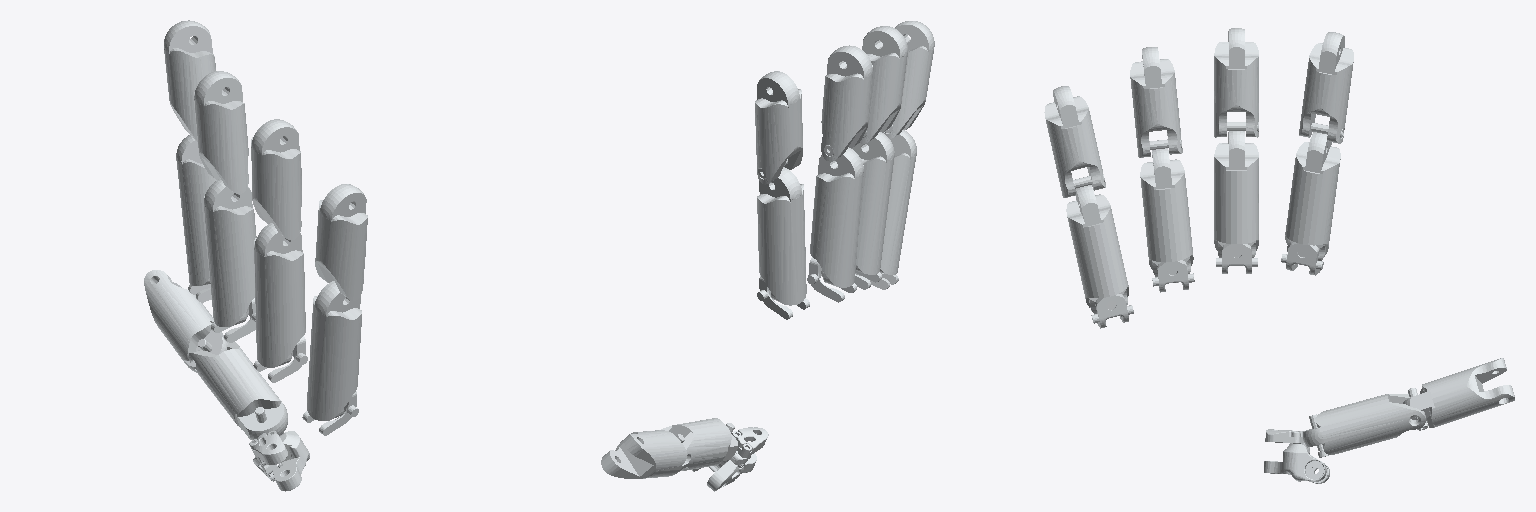
--- Render facts (derived) ---
3 views of the same robot in one strip: view 1: azimuth 30°, elevation 25°; view 2: azimuth 150°, elevation 25°; view 3: azimuth 270°, elevation 25° (orthographic).
Robot: wujihand-right-v1.0.1 — 26 links, 25 joints (20 revolute, 5 fixed); root link palm_link; default pose: all joints at 0.
Visible links, largest first — view 1: finger4_link2, finger3_link2, finger5_link2, finger3_link3, finger4_link3, finger1_link2, finger5_link3, finger1_link3, finger2_link3, finger2_link2, finger1_link1, finger4_link1 (+2 smaller); view 2: finger3_link2, finger2_link2, finger3_link3, finger2_link3, finger4_link2, finger4_link3, finger1_link3, finger5_link2, finger5_link3, finger1_link2, finger1_link1, finger3_link1 (+1 smaller); view 3: finger3_link2, finger5_link2, finger4_link2, finger2_link2, finger1_link2, finger2_link3, finger5_link3, finger4_link3, finger3_link3, finger1_link3, finger1_link1, finger2_link1 (+3 smaller).
Link boxes in pixels (x1,y1,x2,y2): finger4_link2: (254, 223, 305, 367); finger3_link2: (204, 178, 256, 326); finger5_link2: (307, 281, 361, 420); finger3_link3: (194, 71, 248, 193); finger4_link3: (251, 119, 301, 239); finger1_link2: (189, 342, 287, 439); finger5_link3: (315, 184, 367, 300); finger1_link3: (144, 270, 228, 372); finger2_link3: (164, 20, 215, 141); finger2_link2: (176, 134, 216, 285); finger1_link1: (249, 431, 309, 491); finger4_link1: (253, 336, 307, 382); finger3_link2: (810, 147, 863, 287); finger2_link2: (757, 167, 806, 305); finger3_link3: (821, 45, 872, 161); finger2_link3: (755, 71, 802, 184); finger4_link2: (851, 132, 894, 274); finger4_link3: (860, 26, 907, 143); finger1_link3: (601, 430, 686, 478); finger5_link2: (880, 130, 916, 274); finger5_link3: (883, 21, 934, 138); finger1_link2: (661, 418, 737, 470); finger1_link1: (692, 427, 768, 491); finger3_link1: (807, 257, 856, 302); finger3_link2: (1214, 131, 1258, 257); finger5_link2: (1066, 185, 1128, 313); finger4_link2: (1140, 148, 1193, 276); finger2_link2: (1285, 132, 1340, 260); finger1_link2: (1303, 394, 1425, 457); finger2_link3: (1299, 32, 1353, 143); finger5_link3: (1044, 86, 1105, 197); finger4_link3: (1130, 47, 1182, 157); finger3_link3: (1214, 28, 1258, 137); finger1_link3: (1403, 358, 1514, 430); finger1_link1: (1264, 429, 1329, 483); finger2_link1: (1281, 242, 1323, 275).
Bounding box of the posed robot: 0.0521 × 0.1576 × 0.1542 m (x, y, z).
Meshes: 26 distinct files referenced, 15 mesh visuals loaded (15 binary STL); not drawn: 11 (reference not matched to a file when rendering).

The robot description file, URDF, robot "wujihand-right-v1.0.1":
<?xml version="1.0" encoding="utf-8"?>
<robot
  name="wujihand-right-v1.0.1">
  <link
    name="palm_link">
    <inertial>
      <origin
        xyz="-0.0029795 0.00045572 0.036654"
        rpy="0 0 0" />
      <mass
        value="0.2179" />
      <inertia
        ixx="0.00021637"
        ixy="3.9165E-06"
        ixz="1.0657E-05"
        iyy="0.0001461"
        iyz="-1.0223E-05"
        izz="9.3156E-05" />
    </inertial>
    <visual>
      <origin
        xyz="0 0 0"
        rpy="0 0 0" />
      <geometry>
        <mesh
          filename="package://wujihand-urdf/meshes/right/palm_link.STL" />
      </geometry>
      <material
        name="">
        <color
          rgba="0.89804 0.91765 0.92941 1" />
      </material>
    </visual>
    <collision>
      <origin
        xyz="0 0 0"
        rpy="0 0 0" />
      <geometry>
        <mesh
          filename="package://wujihand-urdf/meshes/right/palm_link.STL" />
      </geometry>
    </collision>
  </link>
  <link
    name="finger1_link1">
    <inertial>
      <origin
        xyz="-0.0024628 -0.0014428 0.0077802"
        rpy="0 0 0" />
      <mass
        value="0.0075" />
      <inertia
        ixx="1.4319E-07"
        ixy="-7.6048E-09"
        ixz="-1.812E-10"
        iyy="1.307E-07"
        iyz="1.7145E-08"
        izz="1.0259E-07" />
    </inertial>
    <visual>
      <origin
        xyz="0 0 0"
        rpy="0 0 0" />
      <geometry>
        <mesh
          filename="package://wujihand-urdf/meshes/right/finger1_link1.STL" />
      </geometry>
      <material
        name="">
        <color
          rgba="0.89804 0.91765 0.92941 1" />
      </material>
    </visual>
    <collision>
      <origin
        xyz="0 0 0"
        rpy="0 0 0" />
      <geometry>
        <mesh
          filename="package://wujihand-urdf/meshes/right/finger1_link1.STL" />
      </geometry>
    </collision>
  </link>
  <joint
    name="finger1_joint1"
    type="revolute">
    <origin
      xyz="0.0085244 0.020575 0.028712"
      rpy="-1.328 -0.37161 -0.7307" />
    <parent
      link="palm_link" />
    <child
      link="finger1_link1" />
    <axis
      xyz="0 -1 0" />
    <limit
      lower="-1.6508"
      upper="0.0448"
      effort="0.6"
      velocity="8.587" />
  </joint>
  <link
    name="finger1_link2">
    <inertial>
      <origin
        xyz="0.0011196 -1.2405E-05 0.015663"
        rpy="0 0 0" />
      <mass
        value="0.0248" />
      <inertia
        ixx="1.6585E-06"
        ixy="1.071E-08"
        ixz="1.0344E-08"
        iyy="1.694E-06"
        iyz="1.058E-08"
        izz="4.1017E-07" />
    </inertial>
    <visual>
      <origin
        xyz="0 0 0"
        rpy="0 0 0" />
      <geometry>
        <mesh
          filename="package://wujihand-urdf/meshes/right/finger1_link2.STL" />
      </geometry>
      <material
        name="">
        <color
          rgba="0.89804 0.91765 0.92941 1" />
      </material>
    </visual>
    <collision>
      <origin
        xyz="0 0 0"
        rpy="0 0 0" />
      <geometry>
        <mesh
          filename="package://wujihand-urdf/meshes/right/finger1_link2.STL" />
      </geometry>
    </collision>
  </link>
  <joint
    name="finger1_joint2"
    type="revolute">
    <origin
      xyz="-0.0047549 -0.0060191 0.014132"
      rpy="-0.57428 -0.23677 1.8034" />
    <parent
      link="finger1_link1" />
    <child
      link="finger1_link2" />
    <axis
      xyz="0 1 0" />
    <limit
      lower="-0.9339"
      upper="0.1659"
      effort="0.6"
      velocity="11.1" />
  </joint>
  <link
    name="finger1_link3">
    <inertial>
      <origin
        xyz="-0.0011235 -1.579E-05 0.013056"
        rpy="0 0 0" />
      <mass
        value="0.0165" />
      <inertia
        ixx="1.0981E-06"
        ixy="1.7603E-11"
        ixz="-1.669E-08"
        iyy="1.0736E-06"
        iyz="-9.86E-10"
        izz="3.3917E-07" />
    </inertial>
    <visual>
      <origin
        xyz="0 0 0"
        rpy="0 0 0" />
      <geometry>
        <mesh
          filename="package://wujihand-urdf/meshes/right/finger1_link3.STL" />
      </geometry>
      <material
        name="">
        <color
          rgba="0.89804 0.91765 0.92941 1" />
      </material>
    </visual>
    <collision>
      <origin
        xyz="0 0 0"
        rpy="0 0 0" />
      <geometry>
        <mesh
          filename="package://wujihand-urdf/meshes/right/finger1_link3.STL" />
      </geometry>
    </collision>
  </link>
  <joint
    name="finger1_joint3"
    type="revolute">
    <origin
      xyz="0.00018873 -0.0009916 0.034664"
      rpy="0.049049 0.017311 -1.9085" />
    <parent
      link="finger1_link2" />
    <child
      link="finger1_link3" />
    <axis
      xyz="0 1 0" />
    <limit
      lower="-0.4932"
      upper="1.6272"
      effort="0.3"
      velocity="12.863" />
  </joint>
  <link
    name="finger1_link4">
    <inertial>
      <origin
        xyz="-0.0011922 0.00023589 0.0082118"
        rpy="0 0 0" />
      <mass
        value="0.0165" />
      <inertia
        ixx="3.6732E-07"
        ixy="1.4236E-10"
        ixz="-5.3805E-09"
        iyy="3.7712E-07"
        iyz="-9.5967E-10"
        izz="2.1481E-07" />
    </inertial>
    <visual>
      <origin
        xyz="0 0 0"
        rpy="0 0 0" />
      <geometry>
        <mesh
          filename="package://wujihand-urdf/meshes/right/finger1_link4.STL" />
      </geometry>
      <material
        name="">
        <color
          rgba="0.89804 0.91765 0.92941 1" />
      </material>
    </visual>
    <collision>
      <origin
        xyz="0 0 0"
        rpy="0 0 0" />
      <geometry>
        <mesh
          filename="package://wujihand-urdf/meshes/right/finger1_link4.STL" />
      </geometry>
    </collision>
  </link>
  <joint
    name="finger1_joint4"
    type="revolute">
    <origin
      xyz="0 -0.00025 0.0295"
      rpy="0 0 0" />
    <parent
      link="finger1_link3" />
    <child
      link="finger1_link4" />
    <axis
      xyz="0 1 0" />
    <limit
      lower="-0.4932"
      upper="1.6272"
      effort="0.3"
      velocity="13.579" />
  </joint>
  <link
    name="finger1_tip_link">
    <inertial>
      <origin
        xyz="-0.00018237 -3.9481E-06 -0.0041777"
        rpy="0 0 0" />
      <mass
        value="0.004" />
      <inertia
        ixx="1.8943E-07"
        ixy="4.6143E-11"
        ixz="6.9369E-09"
        iyy="1.8859E-07"
        iyz="4.42E-10"
        izz="1.6733E-07" />
    </inertial>
    <visual>
      <origin
        xyz="0 0 0"
        rpy="0 0 0" />
      <geometry>
        <mesh
          filename="package://wujihand-urdf/meshes/right/finger1_tip_link.STL" />
      </geometry>
      <material
        name="">
        <color
          rgba="0.89804 0.91765 0.92941 1" />
      </material>
    </visual>
    <collision>
      <origin
        xyz="0 0 0"
        rpy="0 0 0" />
      <geometry>
        <mesh
          filename="package://wujihand-urdf/meshes/right/finger1_tip_link.STL" />
      </geometry>
    </collision>
  </link>
  <joint
    name="finger1_tip_fixed"
    type="fixed">
    <origin
      xyz="-0.0011048 0.00023218 0.0283"
      rpy="0 0 0" />
    <parent
      link="finger1_link4" />
    <child
      link="finger1_tip_link" />
    <axis
      xyz="0 0 0" />
  </joint>
  <link
    name="finger2_link1">
    <inertial>
      <origin
        xyz="-0.0013291 -3.2911E-08 0.00031987"
        rpy="0 0 0" />
      <mass
        value="0.0032" />
      <inertia
        ixx="2.6373E-08"
        ixy="-3.9697E-14"
        ixz="-8.0422E-09"
        iyy="2.2948E-08"
        iyz="-2.4125E-13"
        izz="2.4484E-08" />
    </inertial>
    <visual>
      <origin
        xyz="0 0 0"
        rpy="0 0 0" />
      <geometry>
        <mesh
          filename="package://wujihand-urdf/meshes/right/finger2_link1.STL" />
      </geometry>
      <material
        name="">
        <color
          rgba="0.89804 0.91765 0.92941 1" />
      </material>
    </visual>
    <collision>
      <origin
        xyz="0 0 0"
        rpy="0 0 0" />
      <geometry>
        <mesh
          filename="package://wujihand-urdf/meshes/right/finger2_link1.STL" />
      </geometry>
    </collision>
  </link>
  <joint
    name="finger2_joint1"
    type="revolute">
    <origin
      xyz="-0.0058701 0.029434 0.091917"
      rpy="-0.11071 -0.071139 -0.21822" />
    <parent
      link="palm_link" />
    <child
      link="finger2_link1" />
    <axis
      xyz="0 1 0" />
    <limit
      lower="-0.32695"
      upper="1.636"
      effort="1"
      velocity="8.203" />
  </joint>
  <link
    name="finger2_link2">
    <inertial>
      <origin
        xyz="-0.0061577 -4.1189E-07 0.020911"
        rpy="0 0 0" />
      <mass
        value="0.033" />
      <inertia
        ixx="4.0385E-06"
        ixy="-1.83E-11"
        ixz="-1.0142E-07"
        iyy="4.0532E-06"
        iyz="1.4532E-10"
        izz="5.6602E-07" />
    </inertial>
    <visual>
      <origin
        xyz="0 0 0"
        rpy="0 0 0" />
      <geometry>
        <mesh
          filename="package://wujihand-urdf/meshes/right/finger2_link2.STL" />
      </geometry>
      <material
        name="">
        <color
          rgba="0.89804 0.91765 0.92941 1" />
      </material>
    </visual>
    <collision>
      <origin
        xyz="0 0 0"
        rpy="0 0 0" />
      <geometry>
        <mesh
          filename="package://wujihand-urdf/meshes/right/finger2_link2.STL" />
      </geometry>
    </collision>
  </link>
  <joint
    name="finger2_joint2"
    type="revolute">
    <origin
      xyz="0.0022 0 0.004"
      rpy="0 0 0" />
    <parent
      link="finger2_link1" />
    <child
      link="finger2_link2" />
    <axis
      xyz="-1 0 0" />
    <limit
      lower="-0.495"
      upper="0.495"
      effort="0.2"
      velocity="8.1158" />
  </joint>
  <link
    name="finger2_link3">
    <inertial>
      <origin
        xyz="-0.0011668 4.1873E-06 0.026893"
        rpy="0 0 0" />
      <mass
        value="0.0165" />
      <inertia
        ixx="1.3423E-06"
        ixy="-6.5257E-13"
        ixz="3.4631E-08"
        iyy="1.3154E-06"
        iyz="8.8937E-10"
        izz="5.0263E-07" />
    </inertial>
    <visual>
      <origin
        xyz="0 0 0"
        rpy="0 0 0" />
      <geometry>
        <mesh
          filename="package://wujihand-urdf/meshes/right/finger2_link3.STL" />
      </geometry>
      <material
        name="">
        <color
          rgba="0.89804 0.91765 0.92941 1" />
      </material>
    </visual>
    <collision>
      <origin
        xyz="0 0 0"
        rpy="0 0 0" />
      <geometry>
        <mesh
          filename="package://wujihand-urdf/meshes/right/finger2_link3.STL" />
      </geometry>
    </collision>
  </link>
  <joint
    name="finger2_joint3"
    type="revolute">
    <origin
      xyz="-0.0047503 0 0.043618"
      rpy="0 0 -0.00026861" />
    <parent
      link="finger2_link2" />
    <child
      link="finger2_link3" />
    <axis
      xyz="0 -1 0" />
    <limit
      lower="-1.6272"
      upper="0.4932"
      effort="0.3"
      velocity="12.863" />
  </joint>
  <link
    name="finger2_link4">
    <inertial>
      <origin
        xyz="-0.00089438 1.7042E-05 0.0053518"
        rpy="0 0 0" />
      <mass
        value="0.014" />
      <inertia
        ixx="1.3443E-07"
        ixy="2.4169E-11"
        ixz="4.3016E-09"
        iyy="9.4805E-08"
        iyz="2.2966E-10"
        izz="1.0952E-07" />
    </inertial>
    <visual>
      <origin
        xyz="0 0 0"
        rpy="0 0 0" />
      <geometry>
        <mesh
          filename="package://wujihand-urdf/meshes/right/finger2_link4.STL" />
      </geometry>
      <material
        name="">
        <color
          rgba="0.89804 0.91765 0.92941 1" />
      </material>
    </visual>
    <collision>
      <origin
        xyz="0 0 0"
        rpy="0 0 0" />
      <geometry>
        <mesh
          filename="package://wujihand-urdf/meshes/right/finger2_link4.STL" />
      </geometry>
    </collision>
  </link>
  <joint
    name="finger2_joint4"
    type="revolute">
    <origin
      xyz="0 0 0.0295"
      rpy="0 0 0" />
    <parent
      link="finger2_link3" />
    <child
      link="finger2_link4" />
    <axis
      xyz="0 -1 0" />
    <limit
      lower="-1.6272"
      upper="0.4932"
      effort="0.3"
      velocity="13.579" />
  </joint>
  <link
    name="finger2_tip_link">
    <inertial>
      <origin
        xyz="-0.00020111 3.8638E-06 -0.009311"
        rpy="0 0 0" />
      <mass
        value="0.004" />
      <inertia
        ixx="2.2273E-07"
        ixy="1.2773E-11"
        ixz="8.4254E-09"
        iyy="2.2066E-07"
        iyz="-5.5787E-11"
        izz="1.6387E-07" />
    </inertial>
    <visual>
      <origin
        xyz="0 0 0"
        rpy="0 0 0" />
      <geometry>
        <mesh
          filename="package://wujihand-urdf/meshes/right/finger2_tip_link.STL" />
      </geometry>
      <material
        name="">
        <color
          rgba="0.89804 0.91765 0.92941 1" />
      </material>
    </visual>
    <collision>
      <origin
        xyz="0 0 0"
        rpy="0 0 0" />
      <geometry>
        <mesh
          filename="package://wujihand-urdf/meshes/right/finger2_tip_link.STL" />
      </geometry>
    </collision>
  </link>
  <joint
    name="finger2_tip_fixed"
    type="fixed">
    <origin
      xyz="-0.00105 0 0.0274"
      rpy="0 0 0" />
    <parent
      link="finger2_link4" />
    <child
      link="finger2_tip_link" />
    <axis
      xyz="0 0 0" />
  </joint>
  <link
    name="finger3_link1">
    <inertial>
      <origin
        xyz="-0.0013291 3.4987E-09 0.00031994"
        rpy="0 0 0" />
      <mass
        value="0.0032" />
      <inertia
        ixx="2.6373E-08"
        ixy="-1.1786E-13"
        ixz="-8.0422E-09"
        iyy="2.2948E-08"
        iyz="-3.1483E-13"
        izz="2.4484E-08" />
    </inertial>
    <visual>
      <origin
        xyz="0 0 0"
        rpy="0 0 0" />
      <geometry>
        <mesh
          filename="package://wujihand-urdf/meshes/right/finger3_link1.STL" />
      </geometry>
      <material
        name="">
        <color
          rgba="0.89804 0.91765 0.92941 1" />
      </material>
    </visual>
    <collision>
      <origin
        xyz="0 0 0"
        rpy="0 0 0" />
      <geometry>
        <mesh
          filename="package://wujihand-urdf/meshes/right/finger3_link1.STL" />
      </geometry>
    </collision>
  </link>
  <joint
    name="finger3_joint1"
    type="revolute">
    <origin
      xyz="-0.01046 0.0074615 0.089544"
      rpy="-5.0886E-05 -0.087266 0.00058387" />
    <parent
      link="palm_link" />
    <child
      link="finger3_link1" />
    <axis
      xyz="0 1 0" />
    <limit
      lower="-0.32695"
      upper="1.636"
      effort="1"
      velocity="8.203" />
  </joint>
  <link
    name="finger3_link2">
    <inertial>
      <origin
        xyz="-0.0061576 -4.1651E-07 0.020911"
        rpy="0 0 0" />
      <mass
        value="0.033" />
      <inertia
        ixx="4.0385E-06"
        ixy="-1.8081E-11"
        ixz="-1.0144E-07"
        iyy="4.0532E-06"
        iyz="1.5178E-10"
        izz="5.6602E-07" />
    </inertial>
    <visual>
      <origin
        xyz="0 0 0"
        rpy="0 0 0" />
      <geometry>
        <mesh
          filename="package://wujihand-urdf/meshes/right/finger3_link2.STL" />
      </geometry>
      <material
        name="">
        <color
          rgba="0.89804 0.91765 0.92941 1" />
      </material>
    </visual>
    <collision>
      <origin
        xyz="0 0 0"
        rpy="0 0 0" />
      <geometry>
        <mesh
          filename="package://wujihand-urdf/meshes/right/finger3_link2.STL" />
      </geometry>
    </collision>
  </link>
  <joint
    name="finger3_joint2"
    type="revolute">
    <origin
      xyz="0.0022 0 0.004"
      rpy="0 0 0" />
    <parent
      link="finger3_link1" />
    <child
      link="finger3_link2" />
    <axis
      xyz="-1 0 0" />
    <limit
      lower="-0.495"
      upper="0.495"
      effort="0.2"
      velocity="8.1158" />
  </joint>
  <link
    name="finger3_link3">
    <inertial>
      <origin
        xyz="-0.0011214 4.331E-06 0.015763"
        rpy="0 0 0" />
      <mass
        value="0.0165" />
      <inertia
        ixx="1.1195E-06"
        ixy="-1.2715E-11"
        ixz="2.6203E-08"
        iyy="1.0947E-06"
        iyz="9.4467E-10"
        izz="3.3876E-07" />
    </inertial>
    <visual>
      <origin
        xyz="0 0 0"
        rpy="0 0 0" />
      <geometry>
        <mesh
          filename="package://wujihand-urdf/meshes/right/finger3_link3.STL" />
      </geometry>
      <material
        name="">
        <color
          rgba="0.89804 0.91765 0.92941 1" />
      </material>
    </visual>
    <collision>
      <origin
        xyz="0 0 0"
        rpy="0 0 0" />
      <geometry>
        <mesh
          filename="package://wujihand-urdf/meshes/right/finger3_link3.STL" />
      </geometry>
    </collision>
  </link>
  <joint
    name="finger3_joint3"
    type="revolute">
    <origin
      xyz="-0.00475 0 0.043618"
      rpy="0 0 -0.00026861" />
    <parent
      link="finger3_link2" />
    <child
      link="finger3_link3" />
    <axis
      xyz="0 -1 0" />
    <limit
      lower="-1.6272"
      upper="0.4932"
      effort="0.3"
      velocity="12.863" />
  </joint>
  <link
    name="finger3_link4">
    <inertial>
      <origin
        xyz="-0.00089436 1.7049E-05 0.0053518"
        rpy="0 0 0" />
      <mass
        value="0.014" />
      <inertia
        ixx="1.3443E-07"
        ixy="2.3726E-11"
        ixz="4.3018E-09"
        iyy="9.4805E-08"
        iyz="2.2969E-10"
        izz="1.0952E-07" />
    </inertial>
    <visual>
      <origin
        xyz="0 0 0"
        rpy="0 0 0" />
      <geometry>
        <mesh
          filename="package://wujihand-urdf/meshes/right/finger3_link4.STL" />
      </geometry>
      <material
        name="">
        <color
          rgba="0.89804 0.91765 0.92941 1" />
      </material>
    </visual>
    <collision>
      <origin
        xyz="0 0 0"
        rpy="0 0 0" />
      <geometry>
        <mesh
          filename="package://wujihand-urdf/meshes/right/finger3_link4.STL" />
      </geometry>
    </collision>
  </link>
  <joint
    name="finger3_joint4"
    type="revolute">
    <origin
      xyz="0 0 0.0295"
      rpy="0 0 0" />
    <parent
      link="finger3_link3" />
    <child
      link="finger3_link4" />
    <axis
      xyz="0 -1 0" />
    <limit
      lower="-1.6272"
      upper="0.4932"
      effort="0.3"
      velocity="13.579" />
  </joint>
  <link
    name="finger3_tip_link">
    <inertial>
      <origin
        xyz="-0.00020328 1.4971E-06 -0.008611"
        rpy="0 0 0" />
      <mass
        value="0.004" />
      <inertia
        ixx="2.2273E-07"
        ixy="1.2612E-11"
        ixz="8.4261E-09"
        iyy="2.2066E-07"
        iyz="-5.6187E-11"
        izz="1.6387E-07" />
    </inertial>
    <visual>
      <origin
        xyz="0 0 0"
        rpy="0 0 0" />
      <geometry>
        <mesh
          filename="package://wujihand-urdf/meshes/right/finger3_tip_link.STL" />
      </geometry>
      <material
        name="">
        <color
          rgba="0.89804 0.91765 0.92941 1" />
      </material>
    </visual>
    <collision>
      <origin
        xyz="0 0 0"
        rpy="0 0 0" />
      <geometry>
        <mesh
          filename="package://wujihand-urdf/meshes/right/finger3_tip_link.STL" />
      </geometry>
    </collision>
  </link>
  <joint
    name="finger3_tip_fixed"
    type="fixed">
    <origin
      xyz="-0.0010491 0 0.0267"
      rpy="0 0 0" />
    <parent
      link="finger3_link4" />
    <child
      link="finger3_tip_link" />
    <axis
      xyz="0 0 0" />
  </joint>
  <link
    name="finger4_link1">
    <inertial>
      <origin
        xyz="-0.0013291 1.0048E-08 0.00031995"
        rpy="0 0 0" />
      <mass
        value="0.0032" />
      <inertia
        ixx="2.6373E-08"
        ixy="-1.2054E-13"
        ixz="-8.0422E-09"
        iyy="2.2948E-08"
        iyz="-2.8844E-13"
        izz="2.4484E-08" />
    </inertial>
    <visual>
      <origin
        xyz="0 0 0"
        rpy="0 0 0" />
      <geometry>
        <mesh
          filename="package://wujihand-urdf/meshes/right/finger4_link1.STL" />
      </geometry>
      <material
        name="">
        <color
          rgba="0.89804 0.91765 0.92941 1" />
      </material>
    </visual>
    <collision>
      <origin
        xyz="0 0 0"
        rpy="0 0 0" />
      <geometry>
        <mesh
          filename="package://wujihand-urdf/meshes/right/finger4_link1.STL" />
      </geometry>
    </collision>
  </link>
  <joint
    name="finger4_joint1"
    type="revolute">
    <origin
      xyz="-0.0076649 -0.013712 0.084429"
      rpy="0.090375 -0.083436 0.047127" />
    <parent
      link="palm_link" />
    <child
      link="finger4_link1" />
    <axis
      xyz="0 -1 0" />
    <limit
      lower="-1.63595"
      upper="0.32695"
      effort="1"
      velocity="8.203" />
  </joint>
  <link
    name="finger4_link2">
    <inertial>
      <origin
        xyz="-0.0061576 -4.1601E-07 0.020911"
        rpy="0 0 0" />
      <mass
        value="0.033" />
      <inertia
        ixx="4.0385E-06"
        ixy="-1.7998E-11"
        ixz="-1.0144E-07"
        iyy="4.0532E-06"
        iyz="1.5146E-10"
        izz="5.6602E-07" />
    </inertial>
    <visual>
      <origin
        xyz="0 0 0"
        rpy="0 0 0" />
      <geometry>
        <mesh
          filename="package://wujihand-urdf/meshes/right/finger4_link2.STL" />
      </geometry>
      <material
        name="">
        <color
          rgba="0.89804 0.91765 0.92941 1" />
      </material>
    </visual>
    <collision>
      <origin
        xyz="0 0 0"
        rpy="0 0 0" />
      <geometry>
        <mesh
          filename="package://wujihand-urdf/meshes/right/finger4_link2.STL" />
      </geometry>
    </collision>
  </link>
  <joint
    name="finger4_joint2"
    type="revolute">
    <origin
      xyz="0.0022 0 0.004"
      rpy="0 0 0" />
    <parent
      link="finger4_link1" />
    <child
      link="finger4_link2" />
    <axis
      xyz="-1 0 0" />
    <limit
      lower="-0.495"
      upper="0.495"
      effort="0.2"
      velocity="8.1158" />
  </joint>
  <link
    name="finger4_link3">
    <inertial>
      <origin
        xyz="-0.0011214 4.3494E-06 0.015763"
        rpy="0 0 0" />
      <mass
        value="0.0165" />
      <inertia
        ixx="1.1195E-06"
        ixy="-1.3219E-11"
        ixz="2.6205E-08"
        iyy="1.0947E-06"
        iyz="9.4455E-10"
        izz="3.3876E-07" />
    </inertial>
    <visual>
      <origin
        xyz="0 0 0"
        rpy="0 0 0" />
      <geometry>
        <mesh
          filename="package://wujihand-urdf/meshes/right/finger4_link3.STL" />
      </geometry>
      <material
        name="">
        <color
          rgba="0.89804 0.91765 0.92941 1" />
      </material>
    </visual>
    <collision>
      <origin
        xyz="0 0 0"
        rpy="0 0 0" />
      <geometry>
        <mesh
          filename="package://wujihand-urdf/meshes/right/finger4_link3.STL" />
      </geometry>
    </collision>
  </link>
  <joint
    name="finger4_joint3"
    type="revolute">
    <origin
      xyz="-0.00475 0 0.043618"
      rpy="0 0 -0.00026861" />
    <parent
      link="finger4_link2" />
    <child
      link="finger4_link3" />
    <axis
      xyz="0 -1 0" />
    <limit
      lower="-1.6272"
      upper="0.4932"
      effort="0.3"
      velocity="12.863" />
  </joint>
  <link
    name="finger4_link4">
    <inertial>
      <origin
        xyz="-0.00089436 1.7058E-05 0.0053518"
        rpy="0 0 0" />
      <mass
        value="0.014" />
      <inertia
        ixx="1.3443E-07"
        ixy="2.3562E-11"
        ixz="4.3018E-09"
        iyy="9.4805E-08"
        iyz="2.2977E-10"
        izz="1.0952E-07" />
    </inertial>
    <visual>
      <origin
        xyz="0 0 0"
        rpy="0 0 0" />
      <geometry>
        <mesh
          filename="package://wujihand-urdf/meshes/right/finger4_link4.STL" />
      </geometry>
      <material
        name="">
        <color
          rgba="0.89804 0.91765 0.92941 1" />
      </material>
    </visual>
    <collision>
      <origin
        xyz="0 0 0"
        rpy="0 0 0" />
      <geometry>
        <mesh
          filename="package://wujihand-urdf/meshes/right/finger4_link4.STL" />
      </geometry>
    </collision>
  </link>
  <joint
    name="finger4_joint4"
    type="revolute">
    <origin
      xyz="0 0 0.0295"
      rpy="0 0 0" />
    <parent
      link="finger4_link3" />
    <child
      link="finger4_link4" />
    <axis
      xyz="0 -1 0" />
    <limit
      lower="-1.6272"
      upper="0.4932"
      effort="0.3"
      velocity="13.579" />
  </joint>
  <link
    name="finger4_tip_link">
    <inertial>
      <origin
        xyz="-0.00020322 1.528E-06 -0.0086106"
        rpy="0 0 0" />
      <mass
        value="0.004" />
      <inertia
        ixx="2.2277E-07"
        ixy="1.136E-11"
        ixz="8.4288E-09"
        iyy="2.2068E-07"
        iyz="-5.6207E-11"
        izz="1.6386E-07" />
    </inertial>
    <visual>
      <origin
        xyz="0 0 0"
        rpy="0 0 0" />
      <geometry>
        <mesh
          filename="package://wujihand-urdf/meshes/right/finger4_tip_link.STL" />
      </geometry>
      <material
        name="">
        <color
          rgba="0.89804 0.91765 0.92941 1" />
      </material>
    </visual>
    <collision>
      <origin
        xyz="0 0 0"
        rpy="0 0 0" />
      <geometry>
        <mesh
          filename="package://wujihand-urdf/meshes/right/finger4_tip_link.STL" />
      </geometry>
    </collision>
  </link>
  <joint
    name="finger4_tip_fixed"
    type="fixed">
    <origin
      xyz="-0.0010528 0 0.0267"
      rpy="0 0 0" />
    <parent
      link="finger4_link4" />
    <child
      link="finger4_tip_link" />
    <axis
      xyz="0 0 0" />
  </joint>
  <link
    name="finger5_link1">
    <inertial>
      <origin
        xyz="-0.0013291 1.7235E-08 0.00031997"
        rpy="0 0 0" />
      <mass
        value="0.0032" />
      <inertia
        ixx="2.6373E-08"
        ixy="-1.1921E-13"
        ixz="-8.0423E-09"
        iyy="2.2948E-08"
        iyz="-2.4014E-13"
        izz="2.4484E-08" />
    </inertial>
    <visual>
      <origin
        xyz="0 0 0"
        rpy="0 0 0" />
      <geometry>
        <mesh
          filename="package://wujihand-urdf/meshes/right/finger5_link1.STL" />
      </geometry>
      <material
        name="">
        <color
          rgba="0.89804 0.91765 0.92941 1" />
      </material>
    </visual>
    <collision>
      <origin
        xyz="0 0 0"
        rpy="0 0 0" />
      <geometry>
        <mesh
          filename="package://wujihand-urdf/meshes/right/finger5_link1.STL" />
      </geometry>
    </collision>
  </link>
  <joint
    name="finger5_joint1"
    type="revolute">
    <origin
      xyz="-0.0022687 -0.034001 0.074281"
      rpy="0.19248 -0.092517 0.15767" />
    <parent
      link="palm_link" />
    <child
      link="finger5_link1" />
    <axis
      xyz="0 1 0" />
    <limit
      lower="-0.32695"
      upper="1.636"
      effort="1"
      velocity="8.203" />
  </joint>
  <link
    name="finger5_link2">
    <inertial>
      <origin
        xyz="-0.0061576 -4.1475E-07 0.020911"
        rpy="0 0 0" />
      <mass
        value="0.033" />
      <inertia
        ixx="4.0385E-06"
        ixy="-1.7718E-11"
        ixz="-1.0144E-07"
        iyy="4.0532E-06"
        iyz="1.5076E-10"
        izz="5.6602E-07" />
    </inertial>
    <visual>
      <origin
        xyz="0 0 0"
        rpy="0 0 0" />
      <geometry>
        <mesh
          filename="package://wujihand-urdf/meshes/right/finger5_link2.STL" />
      </geometry>
      <material
        name="">
        <color
          rgba="0.89804 0.91765 0.92941 1" />
      </material>
    </visual>
    <collision>
      <origin
        xyz="0 0 0"
        rpy="0 0 0" />
      <geometry>
        <mesh
          filename="package://wujihand-urdf/meshes/right/finger5_link2.STL" />
      </geometry>
    </collision>
  </link>
  <joint
    name="finger5_joint2"
    type="revolute">
    <origin
      xyz="0.0022 0 0.004"
      rpy="0 0 0" />
    <parent
      link="finger5_link1" />
    <child
      link="finger5_link2" />
    <axis
      xyz="-1 0 0" />
    <limit
      lower="-0.495"
      upper="0.495"
      effort="0.2"
      velocity="8.1158" />
  </joint>
  <link
    name="finger5_link3">
    <inertial>
      <origin
        xyz="-0.0011214 4.3703E-06 0.015763"
        rpy="0 0 0" />
      <mass
        value="0.0165" />
      <inertia
        ixx="1.1195E-06"
        ixy="-1.3445E-11"
        ixz="2.6207E-08"
        iyy="1.0947E-06"
        iyz="9.436E-10"
        izz="3.3876E-07" />
    </inertial>
    <visual>
      <origin
        xyz="0 0 0"
        rpy="0 0 0" />
      <geometry>
        <mesh
          filename="package://wujihand-urdf/meshes/right/finger5_link3.STL" />
      </geometry>
      <material
        name="">
        <color
          rgba="0.89804 0.91765 0.92941 1" />
      </material>
    </visual>
    <collision>
      <origin
        xyz="0 0 0"
        rpy="0 0 0" />
      <geometry>
        <mesh
          filename="package://wujihand-urdf/meshes/right/finger5_link3.STL" />
      </geometry>
    </collision>
  </link>
  <joint
    name="finger5_joint3"
    type="revolute">
    <origin
      xyz="-0.00475 0 0.043618"
      rpy="0 0 -0.00026861" />
    <parent
      link="finger5_link2" />
    <child
      link="finger5_link3" />
    <axis
      xyz="0 -1 0" />
    <limit
      lower="-1.6272"
      upper="0.4932"
      effort="0.3"
      velocity="12.863" />
  </joint>
  <link
    name="finger5_link4">
    <inertial>
      <origin
        xyz="-0.00089437 1.7063E-05 0.0053518"
        rpy="0 0 0" />
      <mass
        value="0.014" />
      <inertia
        ixx="1.3443E-07"
        ixy="2.3618E-11"
        ixz="4.3017E-09"
        iyy="9.4805E-08"
        iyz="2.2985E-10"
        izz="1.0952E-07" />
    </inertial>
    <visual>
      <origin
        xyz="0 0 0"
        rpy="0 0 0" />
      <geometry>
        <mesh
          filename="package://wujihand-urdf/meshes/right/finger5_link4.STL" />
      </geometry>
      <material
        name="">
        <color
          rgba="0.89804 0.91765 0.92941 1" />
      </material>
    </visual>
    <collision>
      <origin
        xyz="0 0 0"
        rpy="0 0 0" />
      <geometry>
        <mesh
          filename="package://wujihand-urdf/meshes/right/finger5_link4.STL" />
      </geometry>
    </collision>
  </link>
  <joint
    name="finger5_joint4"
    type="revolute">
    <origin
      xyz="0 0 0.0295"
      rpy="0 0 0" />
    <parent
      link="finger5_link3" />
    <child
      link="finger5_link4" />
    <axis
      xyz="0 -1 0" />
    <limit
      lower="-1.6272"
      upper="0.4932"
      effort="0.3"
      velocity="13.579" />
  </joint>
  <link
    name="finger5_tip_link">
    <inertial>
      <origin
        xyz="-0.00020332 1.4872E-06 -0.0086111"
        rpy="0 0 0" />
      <mass
        value="0.004" />
      <inertia
        ixx="2.2273E-07"
        ixy="1.2441E-11"
        ixz="8.4267E-09"
        iyy="2.2066E-07"
        iyz="-5.5241E-11"
        izz="1.6386E-07" />
    </inertial>
    <visual>
      <origin
        xyz="0 0 0"
        rpy="0 0 0" />
      <geometry>
        <mesh
          filename="package://wujihand-urdf/meshes/right/finger5_tip_link.STL" />
      </geometry>
      <material
        name="">
        <color
          rgba="0.89804 0.91765 0.92941 1" />
      </material>
    </visual>
    <collision>
      <origin
        xyz="0 0 0"
        rpy="0 0 0" />
      <geometry>
        <mesh
          filename="package://wujihand-urdf/meshes/right/finger5_tip_link.STL" />
      </geometry>
    </collision>
  </link>
  <joint
    name="finger5_tip_fixed"
    type="fixed">
    <origin
      xyz="-0.0010446 1.1308E-05 0.0267"
      rpy="0 0 0" />
    <parent
      link="finger5_link4" />
    <child
      link="finger5_tip_link" />
    <axis
      xyz="0 0 0" />
  </joint>
</robot>
